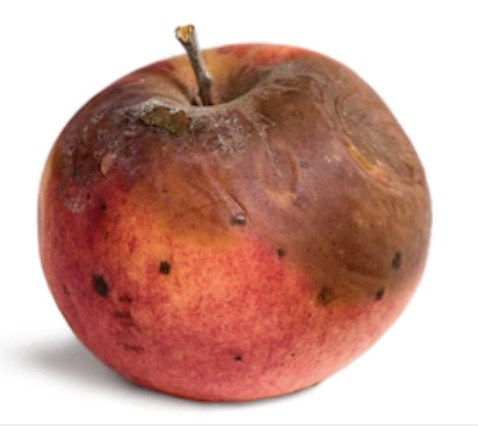rotten_apple: (34, 43, 434, 406)
